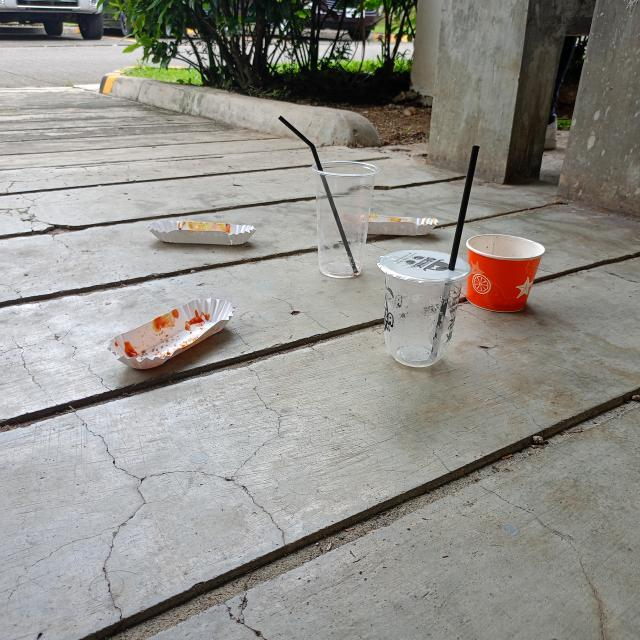recyclable waste: (367, 238, 478, 376), (98, 288, 246, 378), (302, 152, 384, 286), (460, 228, 550, 316), (138, 208, 265, 254), (332, 205, 446, 242)
